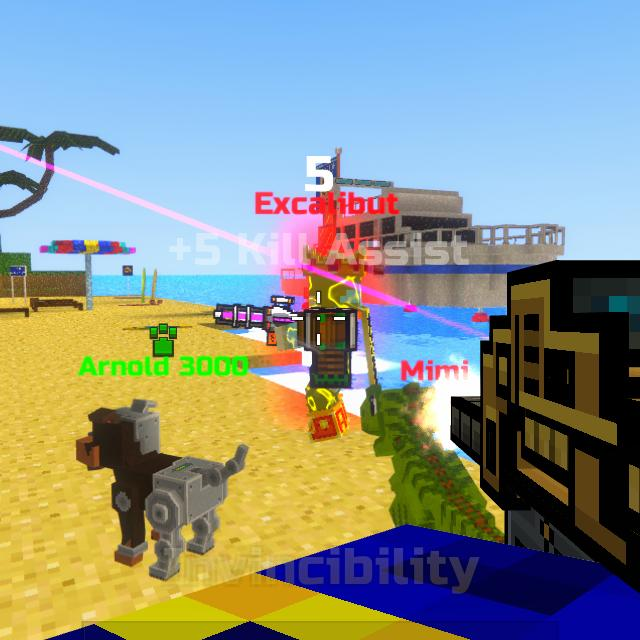Enemy: (274, 249, 367, 441)
